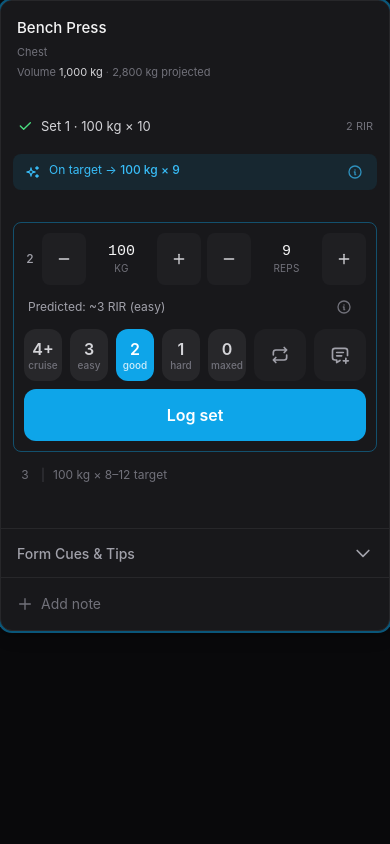
Scenario: ExerciseCard › Live effort warning (SuggestionBanner) › turns amber at predicted RIR ≤ 0 and restores blue when stepping back down
Expected: the text "100 kg × 9" is shown, [120, 162, 180, 177]
# Step reps 9 → 12 (rep-max at this weight) → predicted RIR 0.
Click the button named "Increase reps" at (344, 259), box [322, 233, 366, 285]
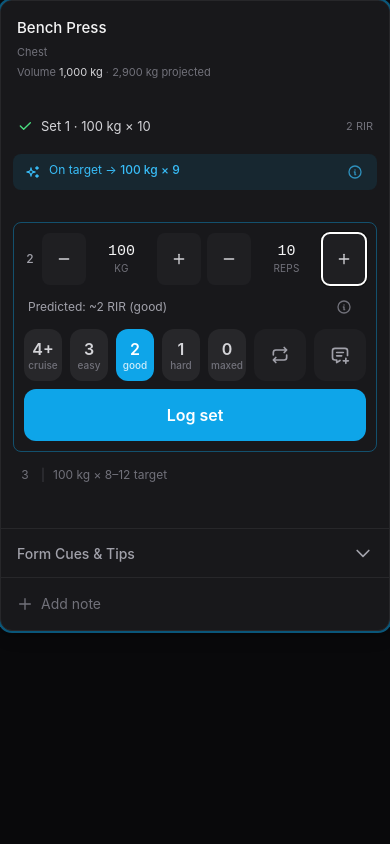
Click the button named "Increase reps" at (344, 259), box [322, 233, 366, 285]
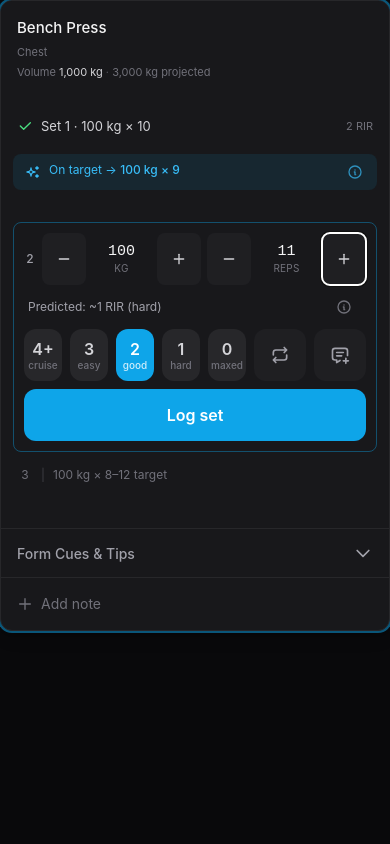
Click the button named "Increase reps" at (344, 259), box [322, 233, 366, 285]
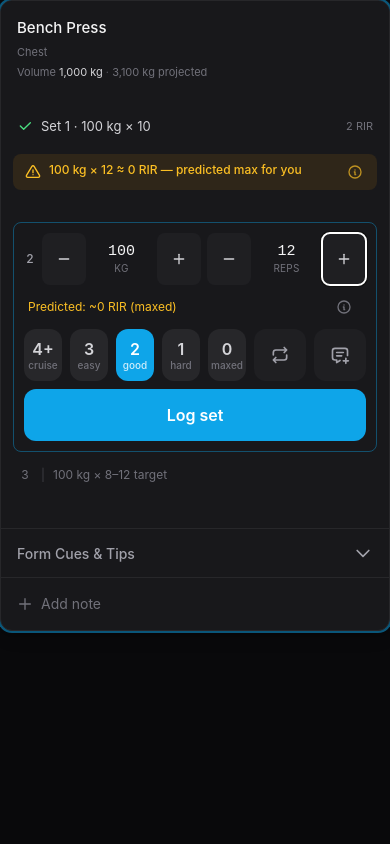
Expected: the text with test id "effort-warning" reads "100 kg × 12 ≈ 0 RIR — predicted max for you", [49, 162, 302, 177]
# Step back down to 11 → predicted RIR 1 → hysteresis exit, blue restored.
Click the button named "Decrease reps" at (229, 259), box [207, 233, 251, 285]
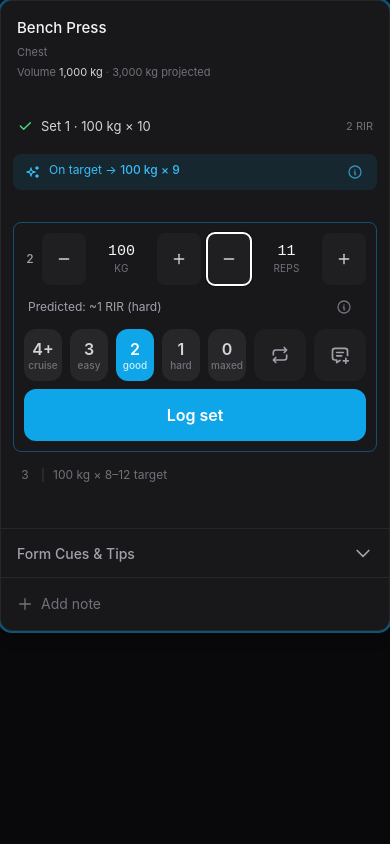
Expected: the text with test id "effort-warning" is gone
